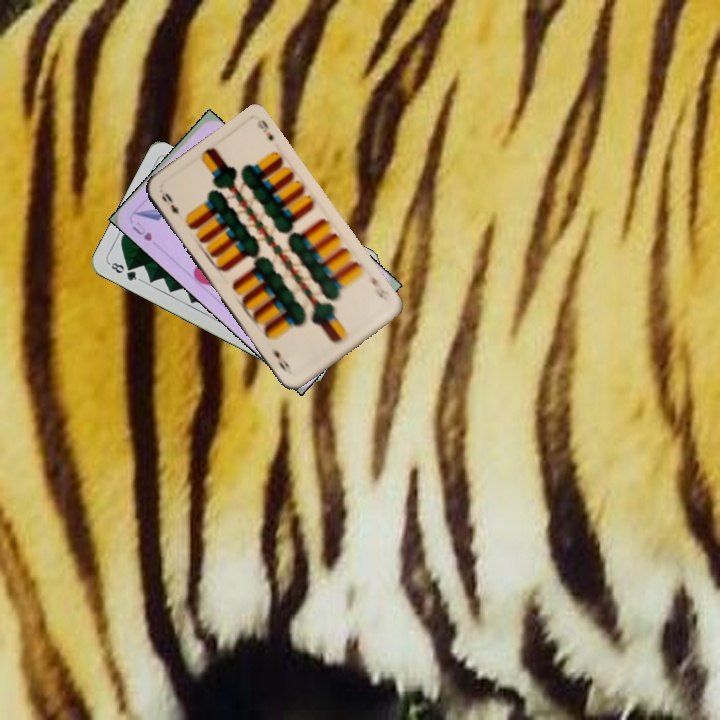E9: (367, 272, 390, 303), (157, 189, 182, 217)
G8: (105, 258, 143, 283)
HU: (128, 218, 155, 244)
